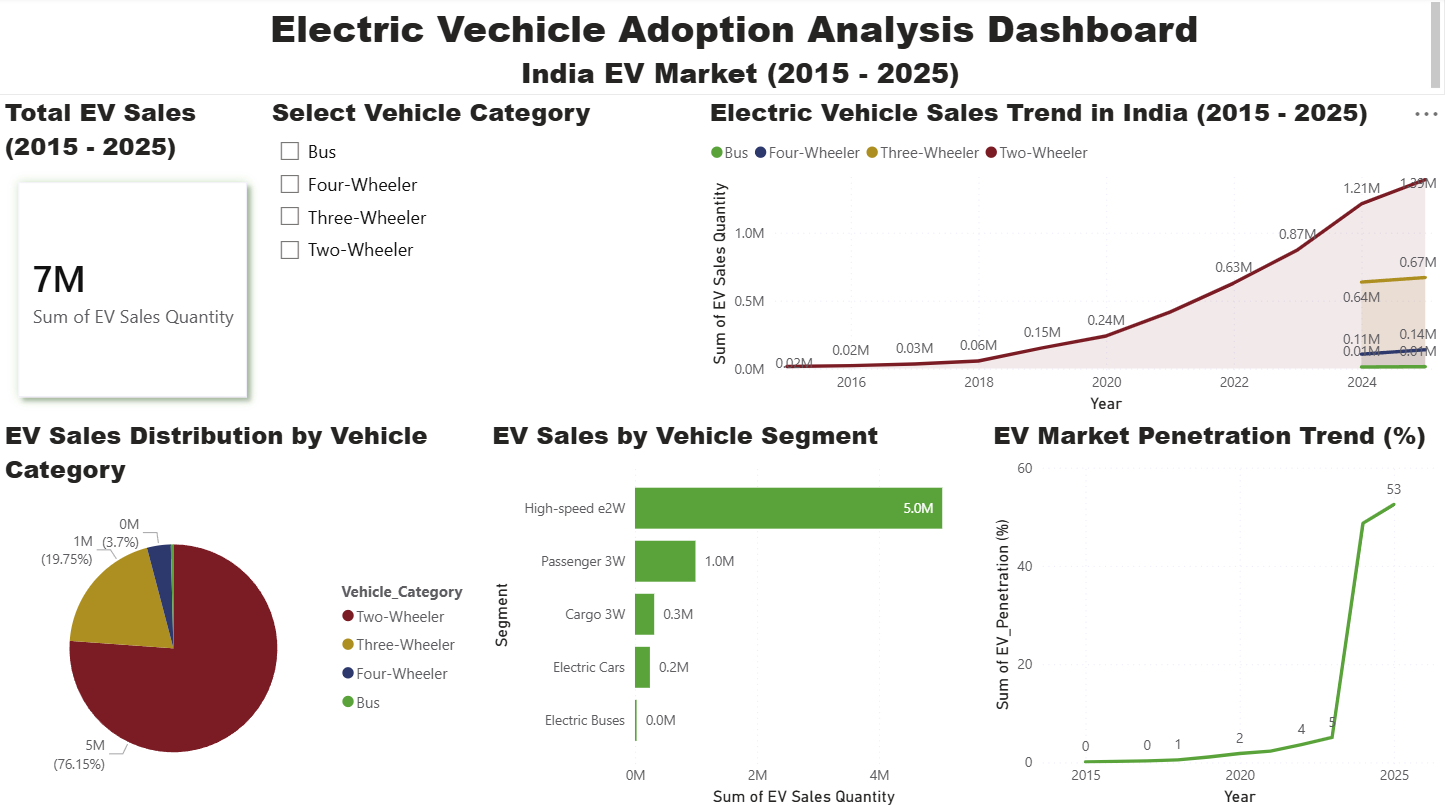

Layout of this report page (visuals, bound fields, positions):
{"tool":"powerbi","page":{"name":"Page 1","canvas":[1280,720],"ordinal":0},"visuals":[{"type":"lineChart","title":"Electric Vehicle Sales Trend in India (2015 - 2025)","fields":{"Category":["Indian_EV_Sales_2015_2025.Year"],"Series":["Indian_EV_Sales_2015_2025.Vehicle_Category"],"Y":["Sum(Indian_EV_Sales_2015_2025.EV Sales Quantity)"]},"box":[623.9,87.8,655.7,284.7],"z":0},{"type":"cardVisual","title":"Total EV Sales (2015 - 2025)","fields":{"Data":["Sum(Indian_EV_Sales_2015_2025.EV Sales Quantity)"]},"box":[0,87.8,236.2,284.7],"z":1000},{"type":"pieChart","title":"EV Sales Distribution by Vehicle Category","fields":{"Category":["Indian_EV_Sales_2015_2025.Vehicle_Category"],"Y":["Sum(Indian_EV_Sales_2015_2025.EV Sales Quantity)"]},"box":[0,372.3,430.9,347.7],"z":2000},{"type":"clusteredBarChart","title":"EV Sales by Vehicle Segment","fields":{"Category":["Indian_EV_Sales_2015_2025.Segment"],"Y":["Sum(Indian_EV_Sales_2015_2025.EV Sales Quantity)"]},"box":[430.9,372.3,444.1,347.7],"z":3000},{"type":"lineChart","title":"EV Market Penetration Trend (%)","fields":{"Category":["Indian_EV_Sales_2015_2025.Year"],"Y":["Sum(Indian_EV_Sales_2015_2025.EV_Penetration (%))"]},"box":[875,372.3,404.4,347.7],"z":4000},{"type":"slicer","title":"Select Vehicle Category","fields":{"Values":["Indian_EV_Sales_2015_2025.Vehicle_Category"]},"box":[236.2,87.8,387.6,284.7],"z":5000},{"type":"textbox","box":[0,0,1279.5,87.8],"z":6000}]}

Visuals, with their boxes in screenshot pixels (x1, y1, x2, y2), scaled from the page's 1280x720 canvas onto the 1445x807 screenshot:
"Electric Vehicle Sales Trend in India (2015 - 2025)" lineChart: box=[704, 98, 1444, 418]
"Total EV Sales (2015 - 2025)" cardVisual: box=[0, 98, 267, 418]
"EV Sales Distribution by Vehicle Category" pieChart: box=[0, 417, 486, 806]
"EV Sales by Vehicle Segment" clusteredBarChart: box=[486, 417, 988, 806]
"EV Market Penetration Trend (%)" lineChart: box=[988, 417, 1444, 806]
"Select Vehicle Category" slicer: box=[267, 98, 704, 418]
textbox: box=[0, 0, 1444, 98]
